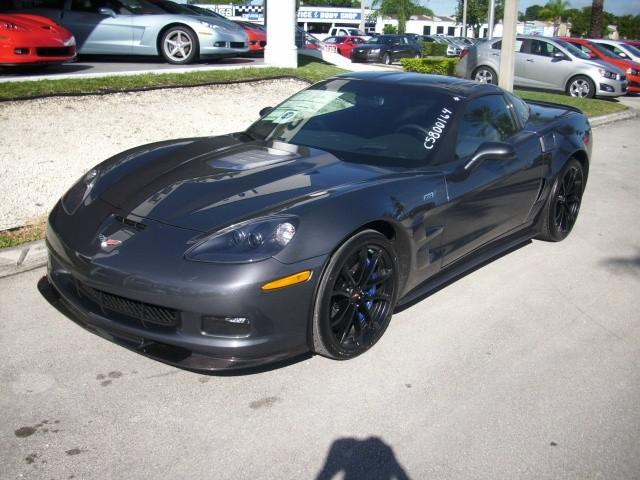Car: (18, 61, 621, 387)
